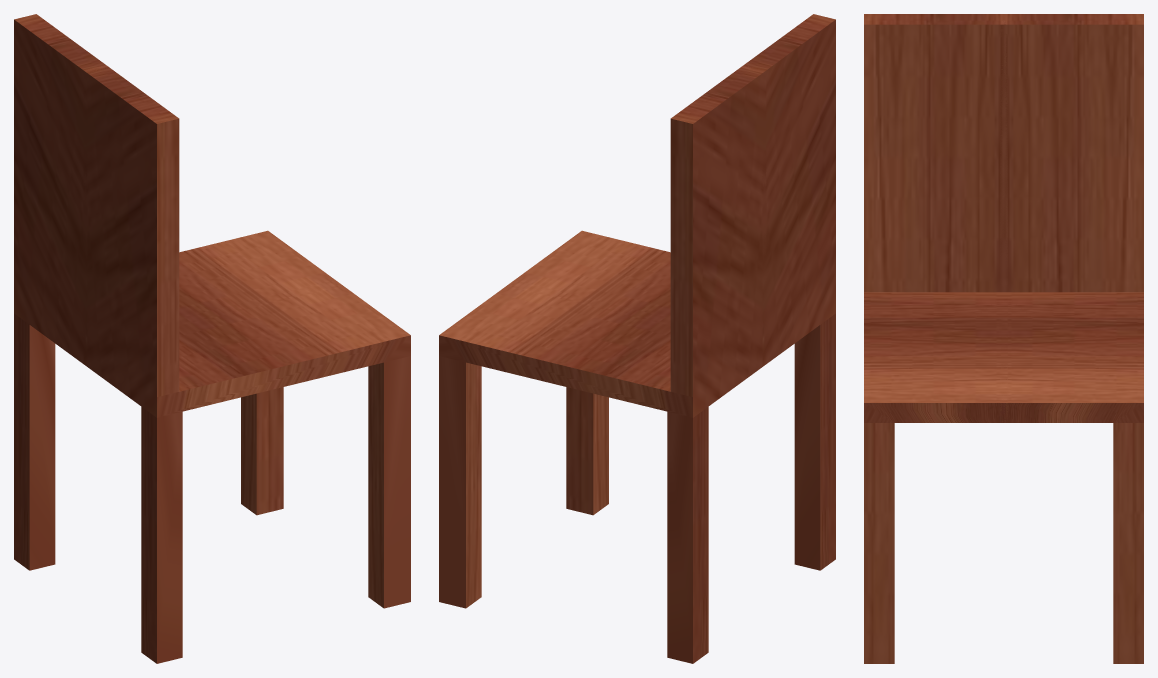
File: NewChair.fbx
The picture shows the model from 3 angles, left to right: view 1: azimuth 30°, elevation 25°; view 2: azimuth 150°, elevation 25°; view 3: azimuth 270°, elevation 25°; orthographic projection. The views are drawn at different scales.
Visible parts, largest first — view 1: Cube.001; view 2: Cube.001; view 3: Cube.001.
Part boxes in pixels (bbox=[...]): Cube.001: bbox=[14, 14, 410, 663]; Cube.001: bbox=[439, 14, 835, 663]; Cube.001: bbox=[864, 14, 1143, 663].
Size of the model in its own units: 200 by 406 by 195.
